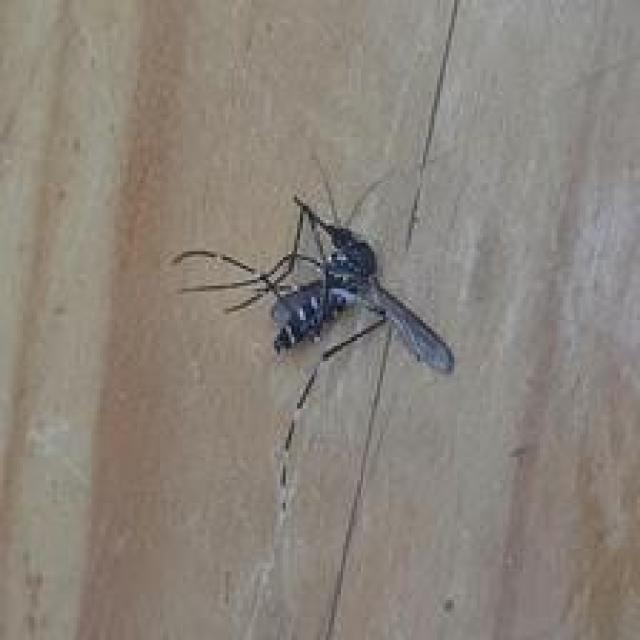Aedes albopictus: (170, 161, 456, 513)
